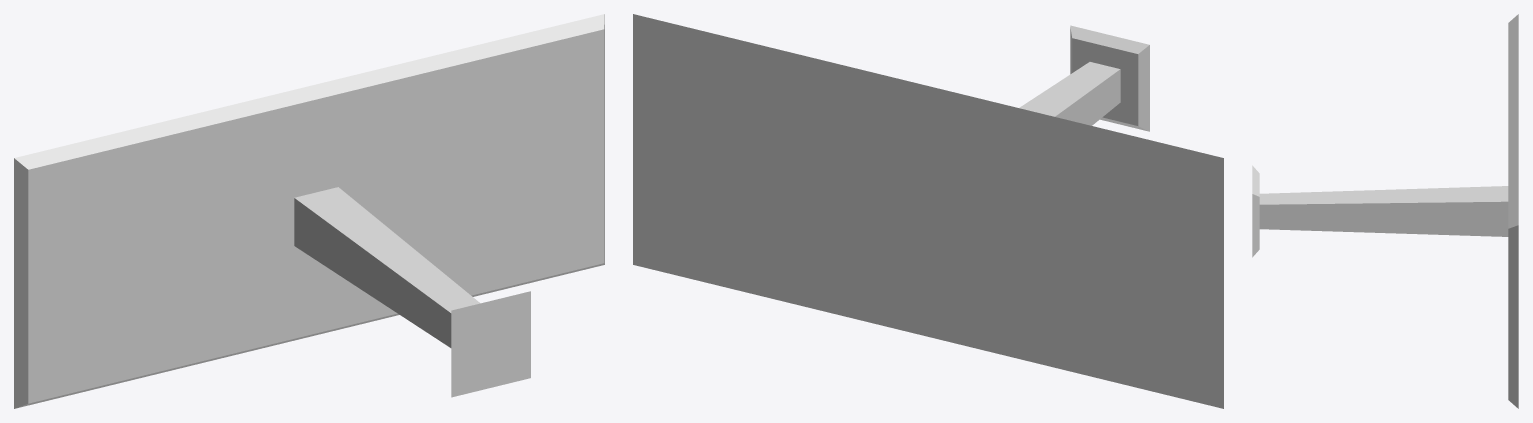
File: Table.glb
3 views of the same model, side by side, from view 1: azimuth 30°, elevation 25°; view 2: azimuth 150°, elevation 25°; view 3: azimuth 270°, elevation 25° (orthographic). The views are drawn at different scales.
Visible parts, largest first — view 1: Table; view 2: Table; view 3: Table.
Part boxes in pixels (box(x1,y1,x2,y2)): Table: box(14, 14, 604, 408); Table: box(633, 14, 1223, 408); Table: box(1252, 14, 1518, 408).
Size of the model in its own units: 1.85 by 0.75 by 0.9837.
Materials: 1 (1 with a texture image).
